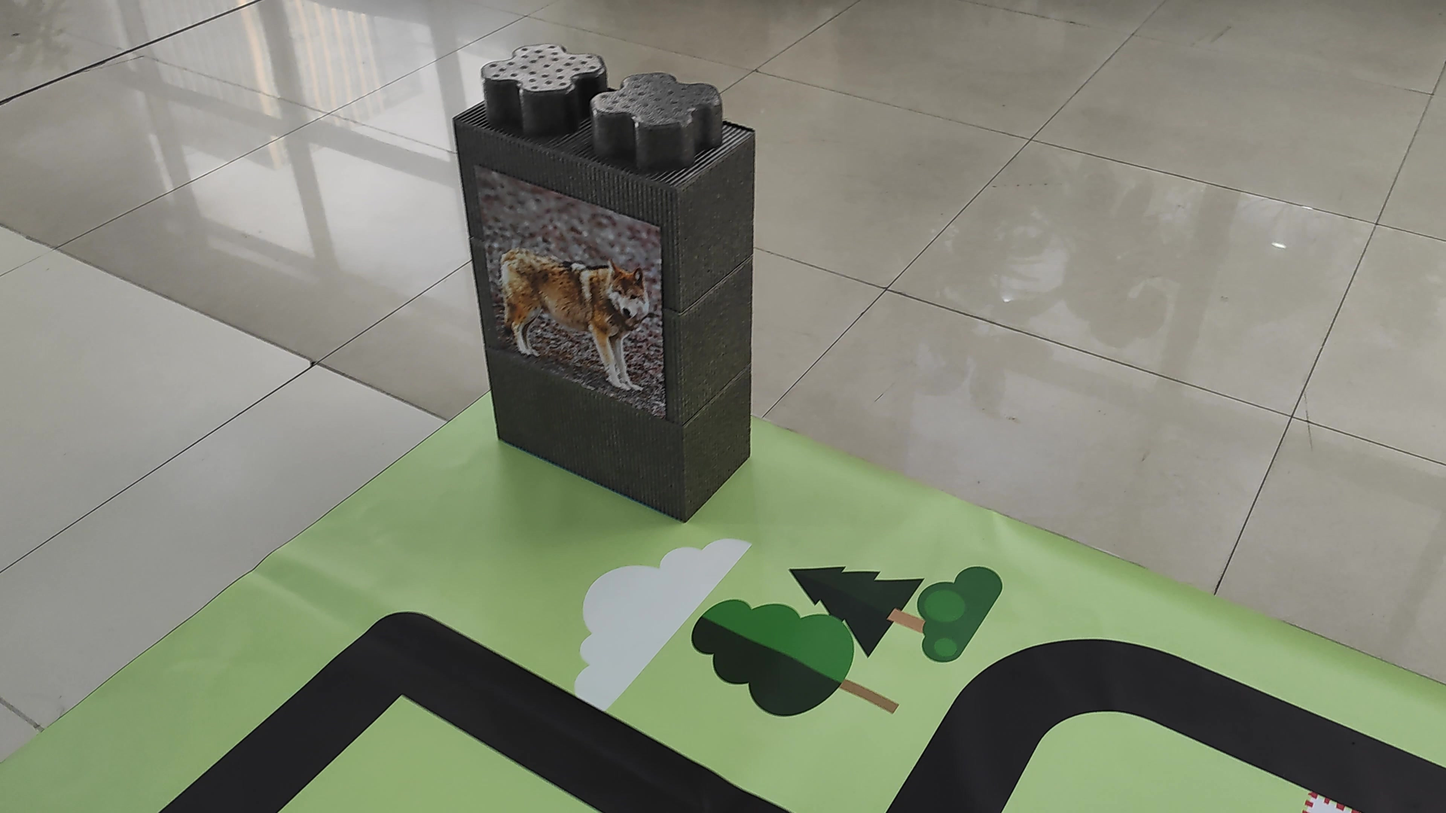wolf: (487, 228, 676, 405)
